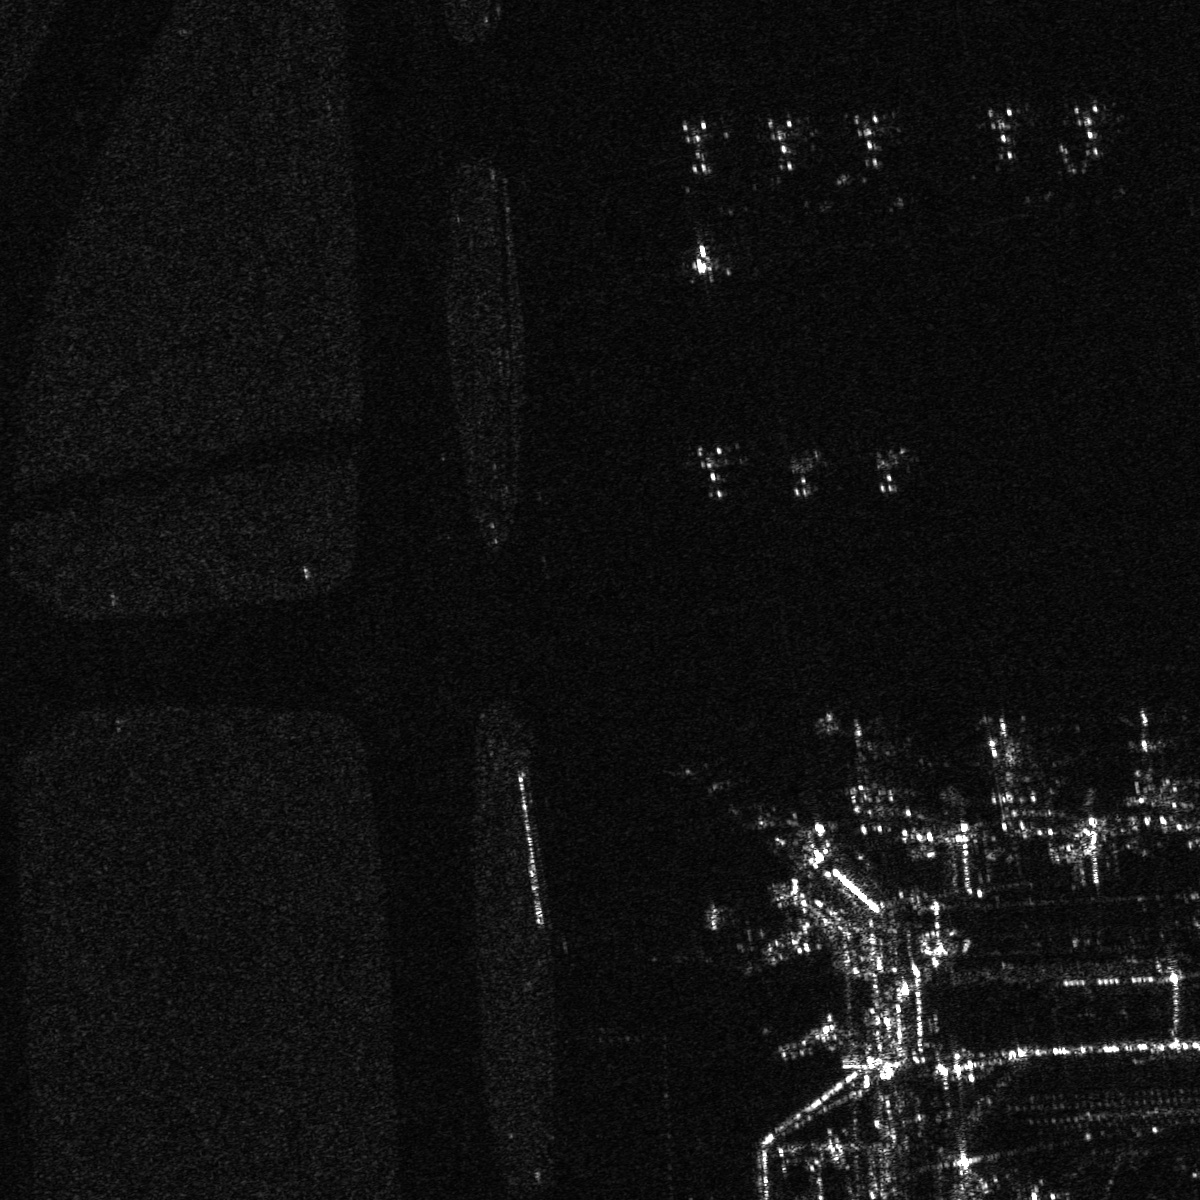A220: (976, 710, 1042, 805), (781, 446, 827, 505)
A320/321: (858, 442, 910, 504)
ARJ21: (689, 443, 749, 505), (685, 227, 733, 282)
Boeing787: (1115, 703, 1174, 784)
other: (830, 710, 909, 820), (755, 113, 804, 181), (1065, 99, 1113, 163), (848, 107, 896, 171), (976, 105, 1026, 164), (678, 114, 716, 178)
